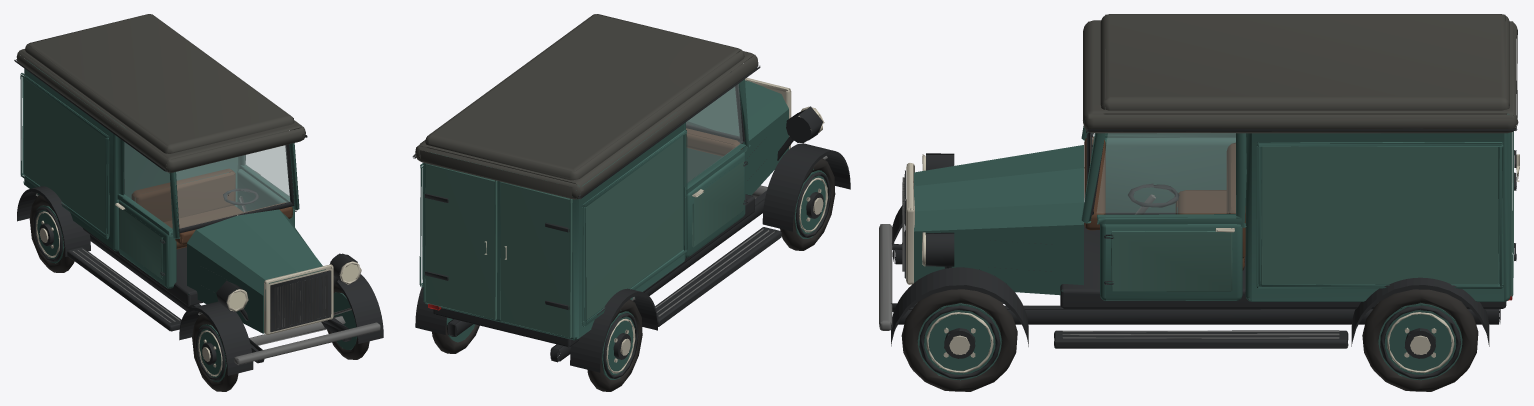
Rendered from lieferwagen.glb.
3 views of the same model, side by side, from view 1: azimuth 30°, elevation 25°; view 2: azimuth 150°, elevation 25°; view 3: azimuth 270°, elevation 25° (orthographic). The views are drawn at different scales.
Parts seen in each view (by area): view 1: Aufbau, Tuer_R, Tuer_L, Vorderrad_R, Hinterrad_R, Vorderrad_L; view 2: Aufbau, Tuer_R, Hinterrad_R, Vorderrad_R, Hinterrad_L; view 3: Aufbau, Tuer_L, Vorderrad_L, Hinterrad_L, Tuer_R.
Part boxes in pixels (x1,y1,x2,y2): Aufbau: (14,14,383,375); Tuer_R: (115,142,171,286); Tuer_L: (237,146,295,211); Vorderrad_R: (192,314,238,391); Hinterrad_R: (29,195,74,272); Vorderrad_L: (327,284,369,359); Aufbau: (412,14,850,372); Tuer_R: (685,84,747,257); Hinterrad_R: (587,299,642,391); Vorderrad_R: (780,158,835,250); Hinterrad_L: (432,317,479,353); Aufbau: (879,14,1519,348); Tuer_L: (1105,133,1244,300); Vorderrad_L: (901,289,1017,391); Hinterrad_L: (1362,289,1478,391); Tuer_R: (1106,133,1235,212).
Bounding box in the file's own units: 1.4 × 1.75 × 3.51.
